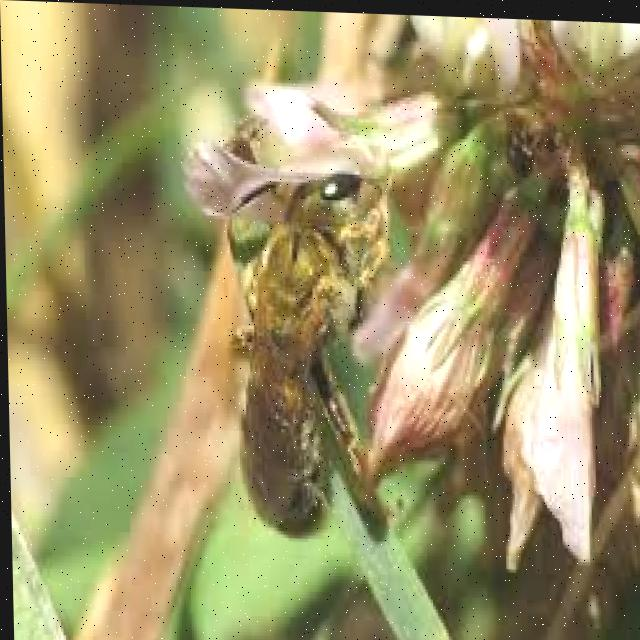Seladonia: (201, 100, 413, 590)
